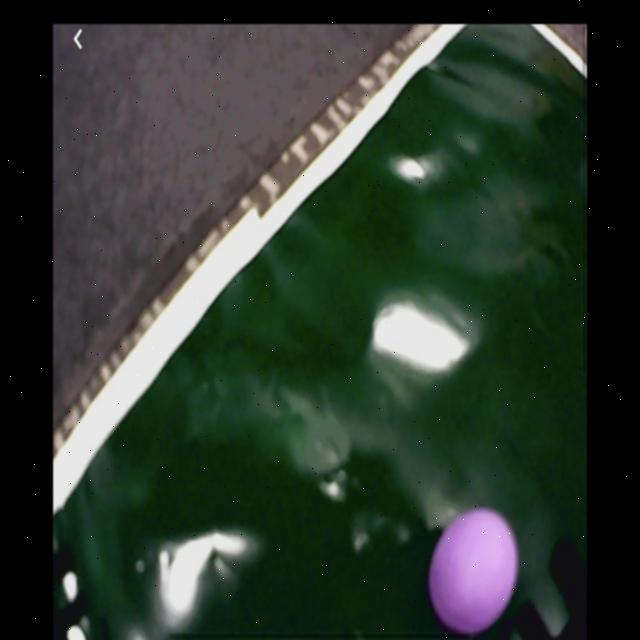ball: (428, 507, 520, 640)
